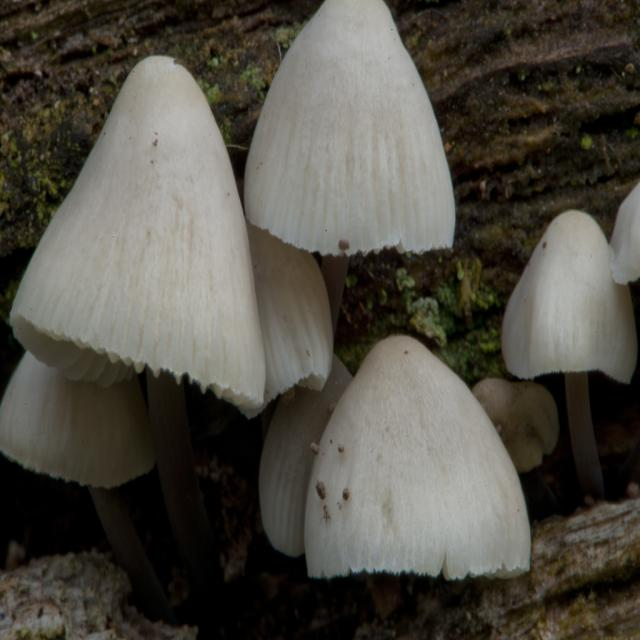Mushroom: (0, 0, 640, 580), (304, 334, 532, 578)
